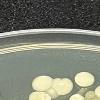white: (50, 75, 74, 96), (72, 69, 96, 89), (30, 73, 53, 93), (26, 91, 52, 100), (43, 87, 60, 100), (83, 89, 100, 100), (68, 92, 86, 100), (93, 84, 100, 99)
